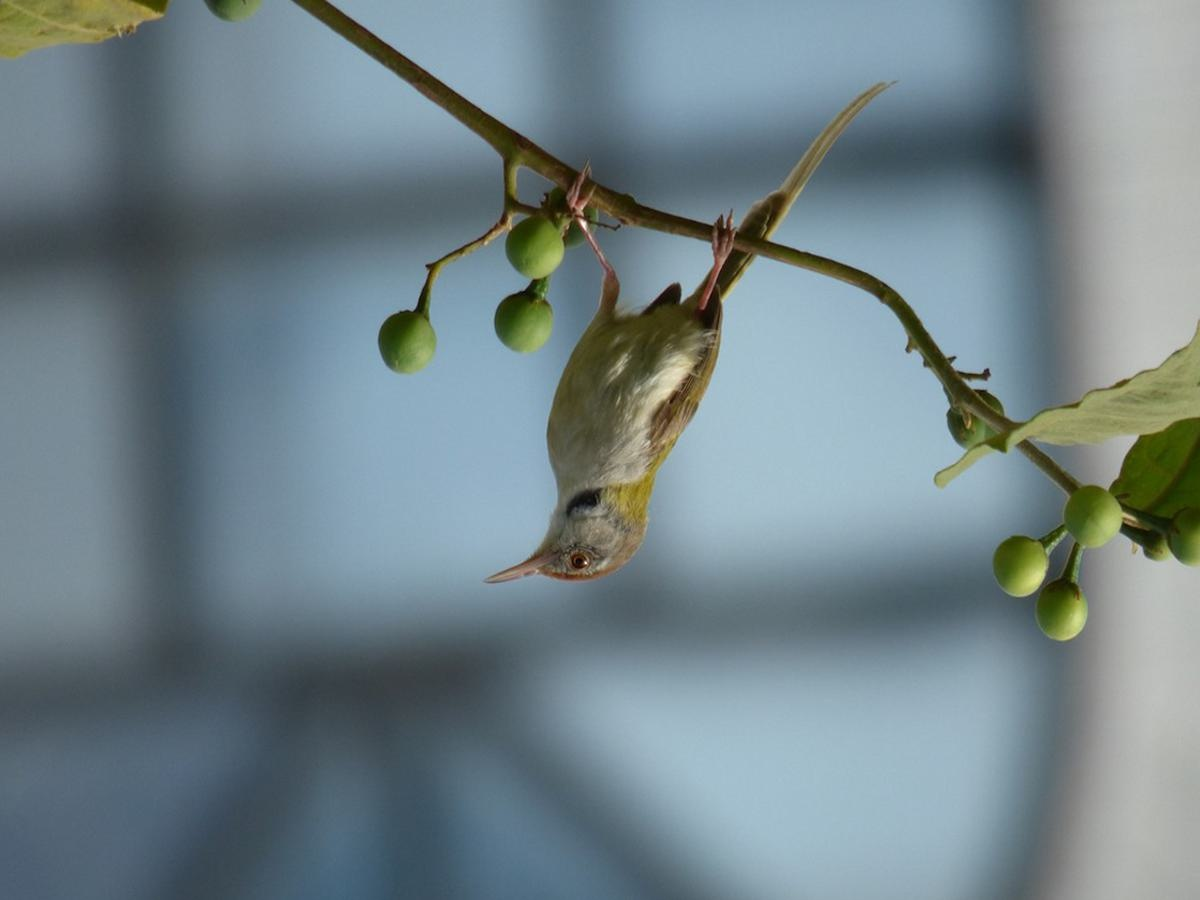tailorbird: (471, 115, 845, 621)
